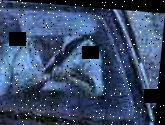seatbelt: (48, 26, 90, 70)
